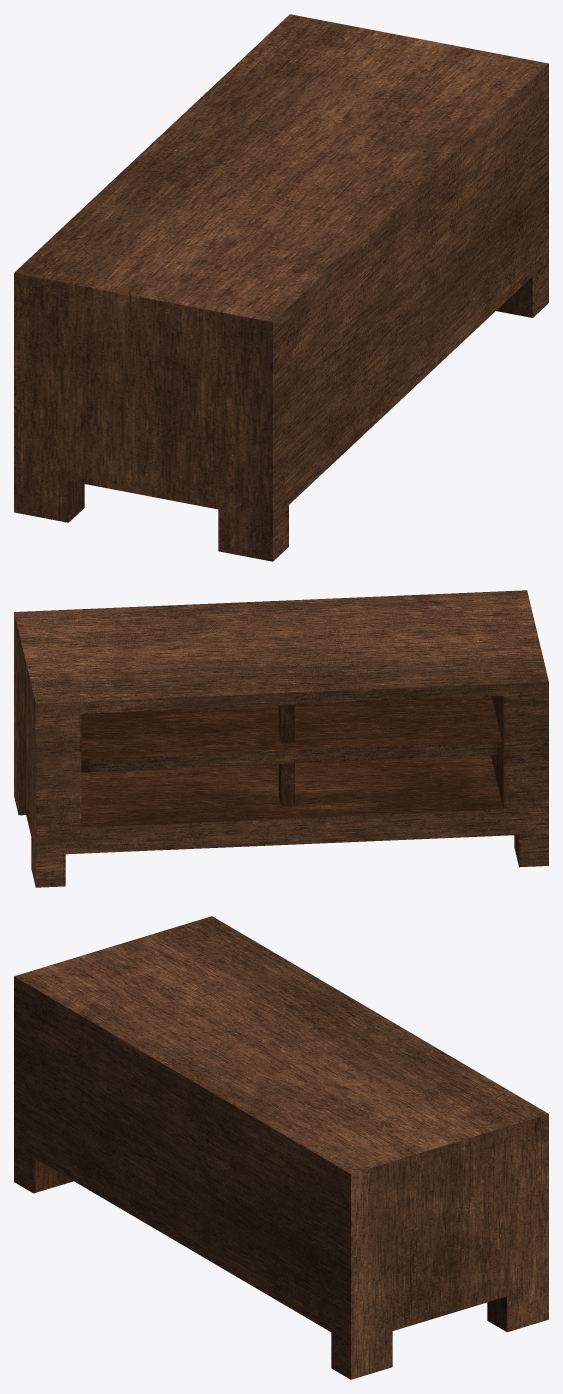
File: DeskTV.fbx
3 renders of one model, top to bottom at view 1: azimuth 30°, elevation 25°; view 2: azimuth 150°, elevation 25°; view 3: azimuth 270°, elevation 25°, orthographic. The views are drawn at different scales.
Visible parts, largest first — view 1: polySurface65; view 2: polySurface65; view 3: polySurface65.
Boxes of the visible parts, x1,y1,x2,y2 form: polySurface65: [14, 14, 548, 561]; polySurface65: [14, 590, 548, 887]; polySurface65: [14, 916, 548, 1379].
Size of the model in its own units: 1.67 by 0.6212 by 1.46.
1 material, 1 textured.
